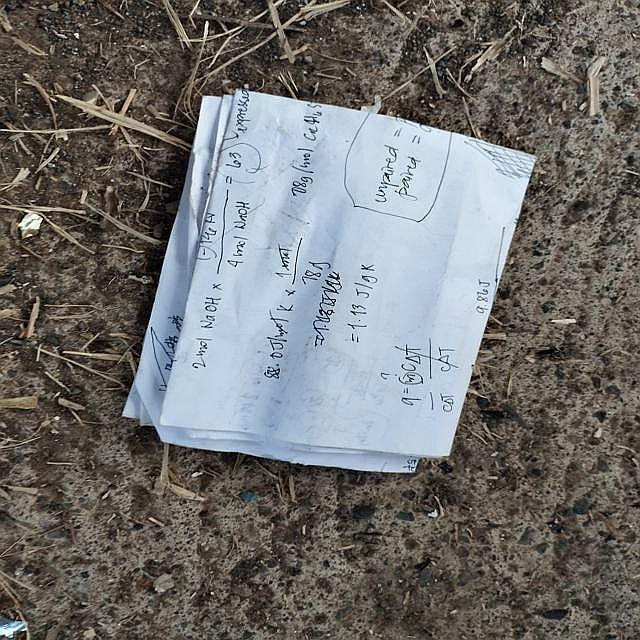Biodegradable: (117, 79, 544, 482)
